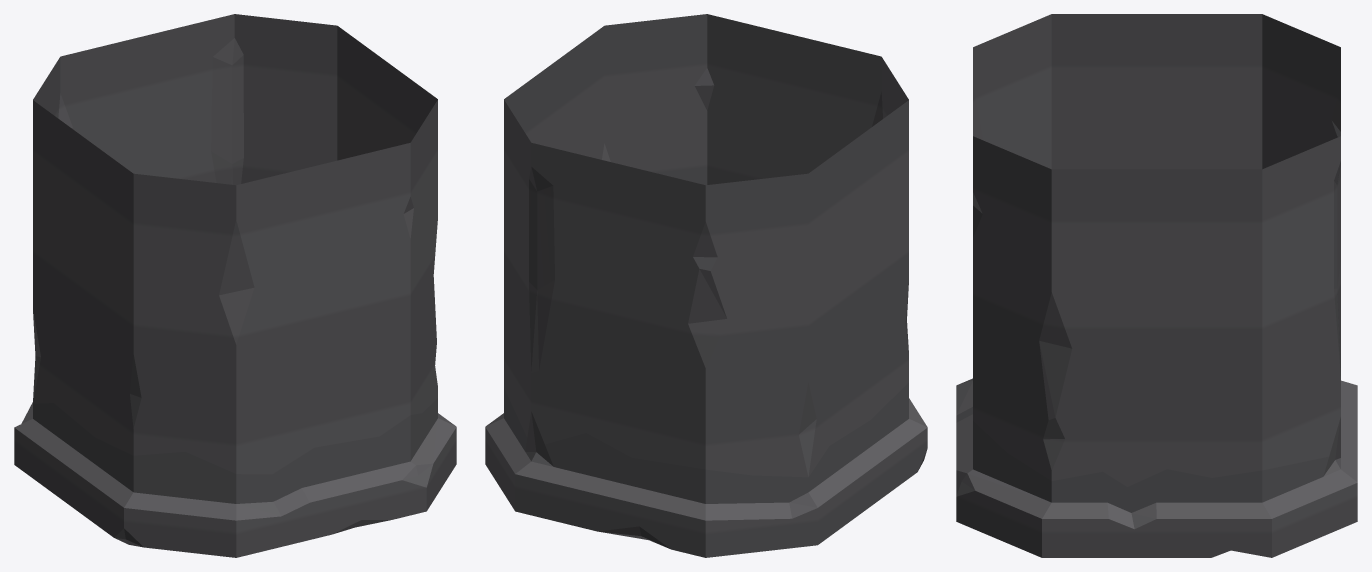
File: SM_Bld_Castle_Tower_04_Lite.gltf
3 views of the same model, side by side, from view 1: azimuth 30°, elevation 25°; view 2: azimuth 150°, elevation 25°; view 3: azimuth 270°, elevation 25° (orthographic). The views are drawn at different scales.
Visible parts, largest first — view 1: SM_Bld_Castle_Tower_04_Lite; view 2: SM_Bld_Castle_Tower_04_Lite; view 3: SM_Bld_Castle_Tower_04_Lite.
Boxes of the visible parts, box(x1,y1,x2,y2) form: SM_Bld_Castle_Tower_04_Lite: box(14, 14, 456, 557); SM_Bld_Castle_Tower_04_Lite: box(485, 14, 927, 557); SM_Bld_Castle_Tower_04_Lite: box(956, 14, 1357, 557).
Bounding box in the file's own units: 2.84 × 3.02 × 2.84.
Materials: 1 (1 with a texture image).
